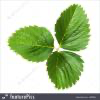Strawberry leaf: (5, 23, 53, 63), (54, 3, 92, 52), (43, 51, 87, 91)
